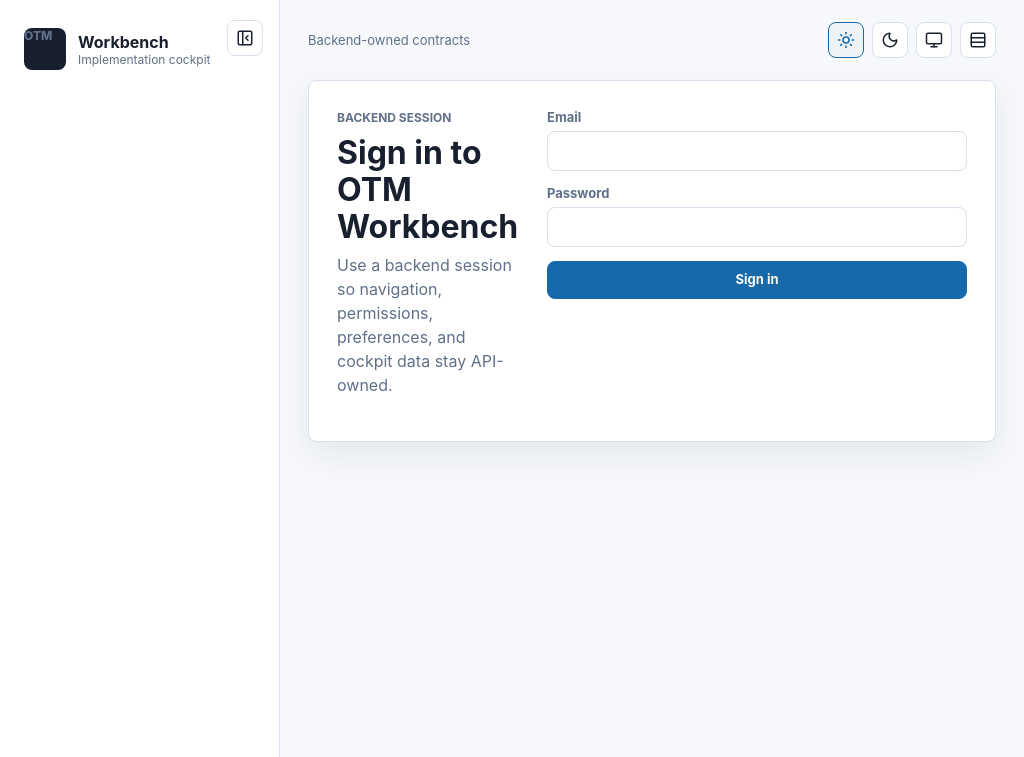
Test: App shell › routes backend-owned Settings navigation to the setup surface
Type "synthetic.user@example.test" into the field labelled "Email". click: (757, 151)
box: [547,131,967,171]
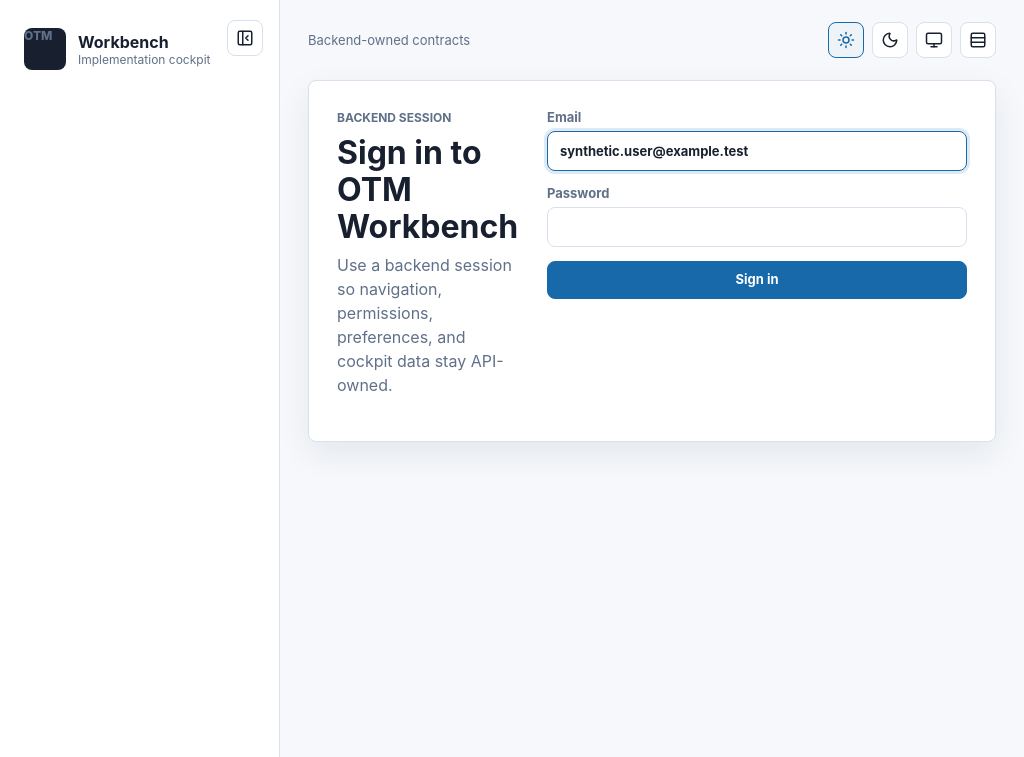
Type "SyntheticPass123!" into the password field labelled "Password". click: (757, 227)
box: [547,207,967,247]
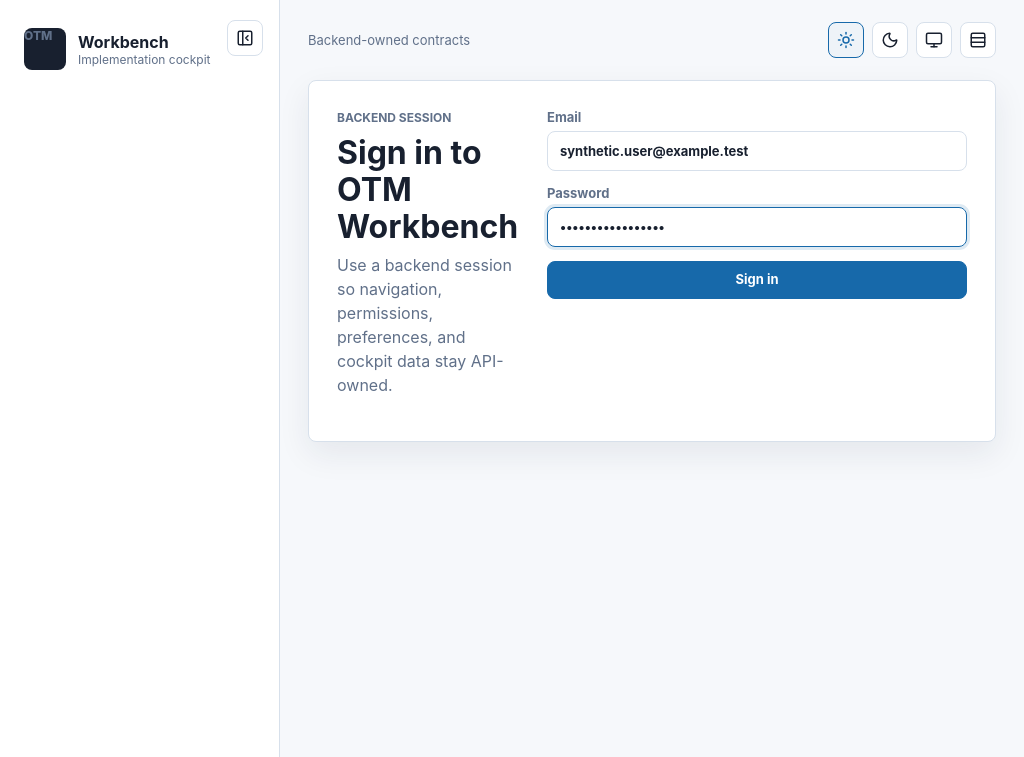
Click the button "Sign in". click: click(757, 280)
box: [547,261,967,299]
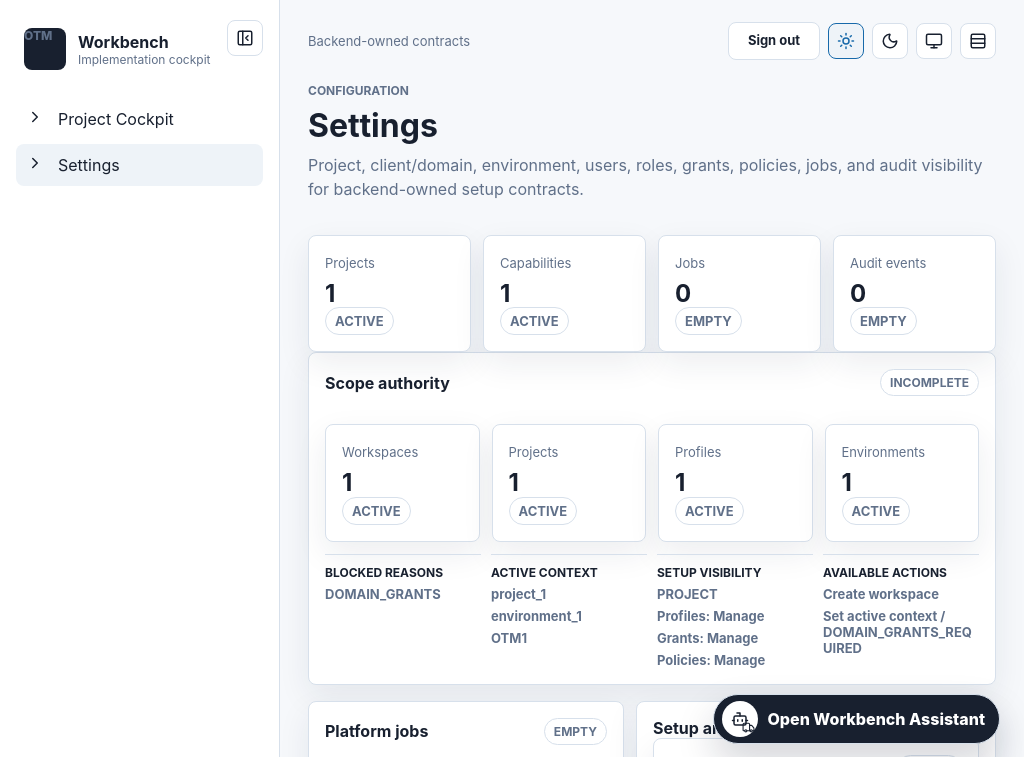
Now the heading "Settings" is shown, box [308,106,438,145]
Now the element named "Settings metrics" is shown, box [308,235,996,352]
Now the element named "Settings scope authority" shows "DOMAIN_GRANTS", box [325,586,441,602]
